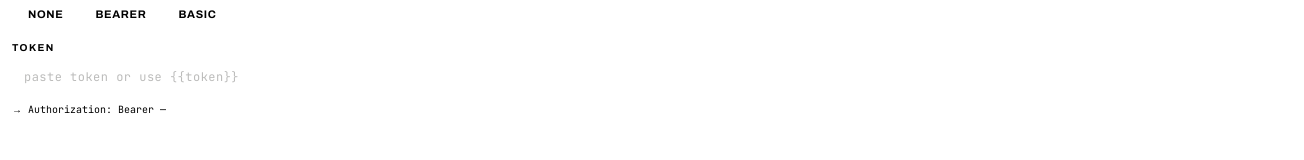
Scenario: AuthPanel — GREEN › typing in token input updates auth.token in store
The image size is (1304, 160).
Type "my-secret" into the field with placeholder "paste token or use {{token}}" at (652,77), box [12, 59, 1292, 95]
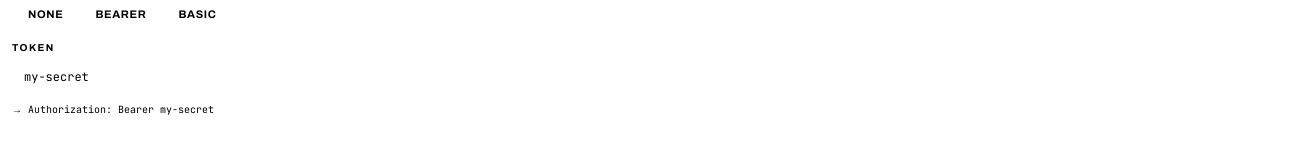
Now the text "my-secret" is shown, box [160, 103, 214, 116]
